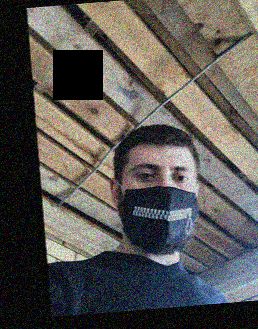with_mask: (121, 155, 199, 254)
